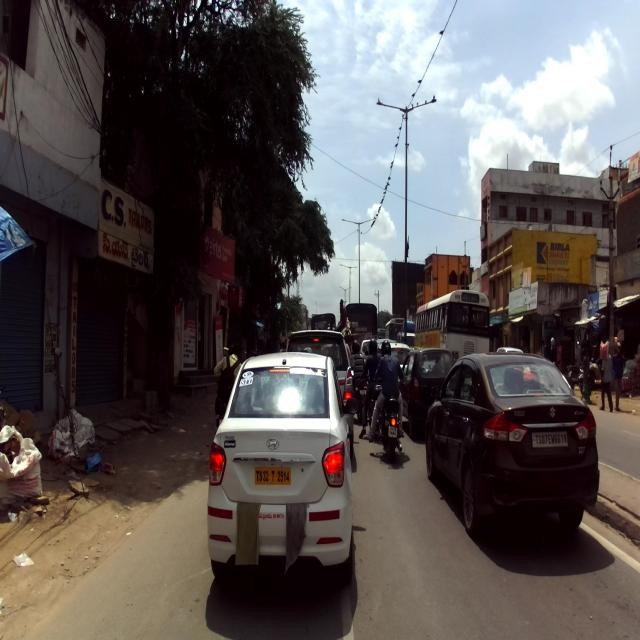car: (207, 351, 360, 582), (424, 350, 600, 537), (284, 328, 355, 458), (395, 348, 455, 438)
motorcycle: (372, 374, 404, 462)
